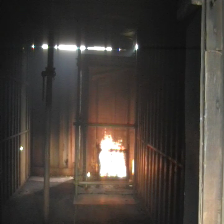fire_h: (99, 125, 126, 178)
fire_l: (95, 163, 98, 172)
